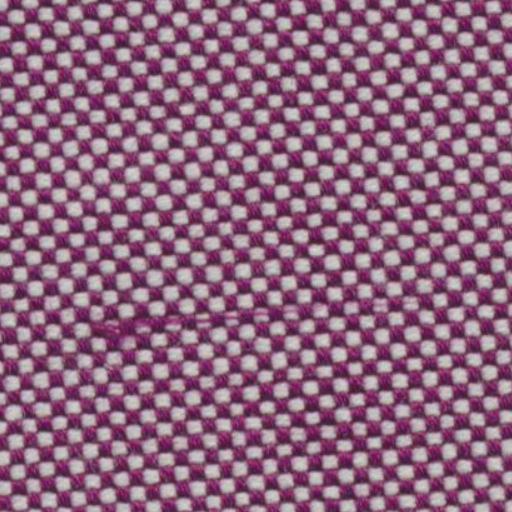DuanSha: (86, 296, 324, 347)
